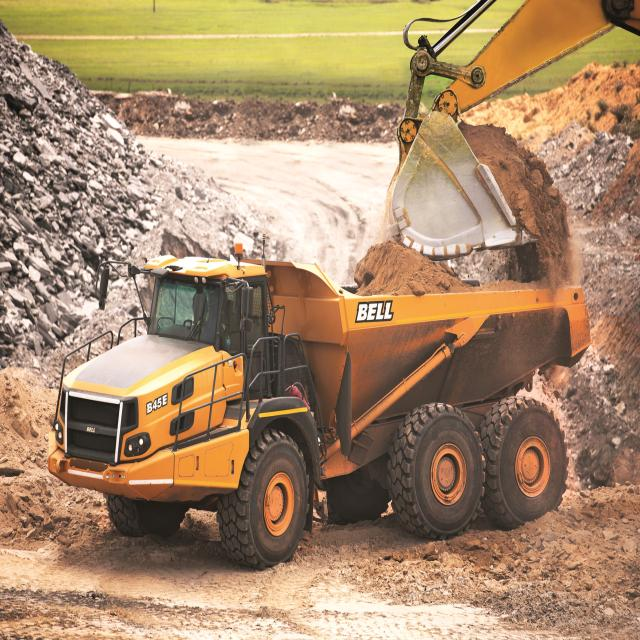dump_truck: (44, 237, 598, 559)
